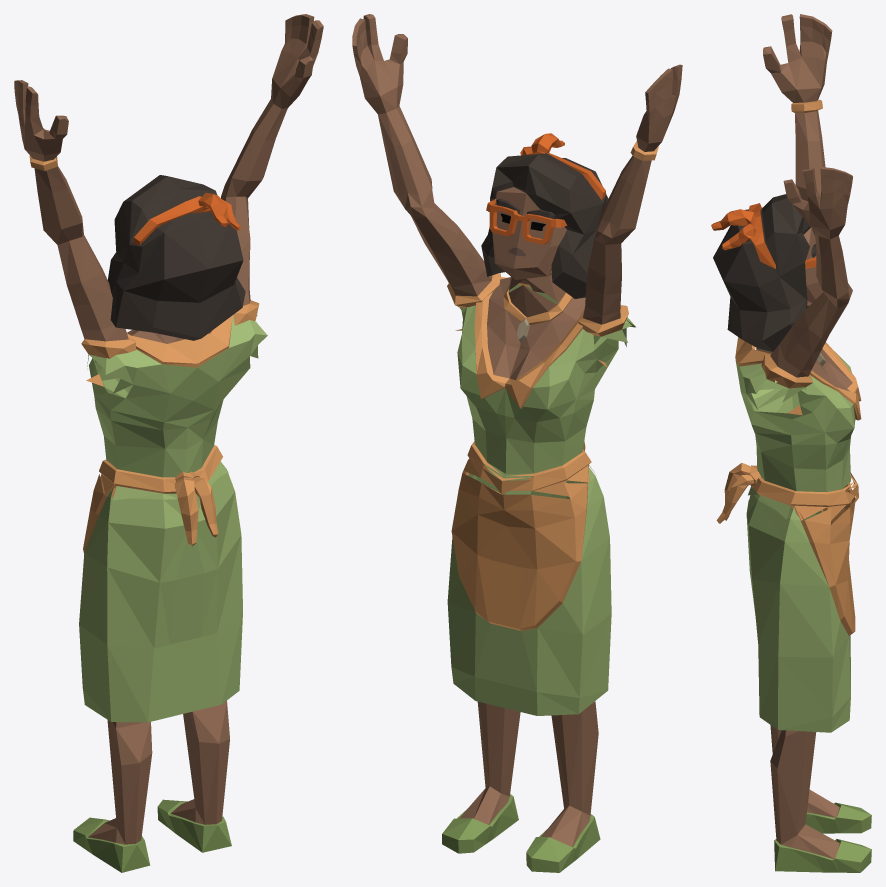
The model's file is Demon_Mother_01_cheer.obj.
3 renders of one model, left to right at view 1: azimuth 30°, elevation 25°; view 2: azimuth 150°, elevation 25°; view 3: azimuth 270°, elevation 25°, orthographic. The views are drawn at different scales.
Visible parts, largest first — view 1: Demon_Mother_01_cheer; view 2: Demon_Mother_01_cheer; view 3: Demon_Mother_01_cheer.
Part boxes in pixels (<box>): Demon_Mother_01_cheer: <box>14,14,323,872</box>; Demon_Mother_01_cheer: <box>352,14,682,872</box>; Demon_Mother_01_cheer: <box>711,14,871,872</box>.
Bounding box in the file's own units: 0.8675 × 2.18 × 0.4153.
Materials: 1 (1 with a texture image).
